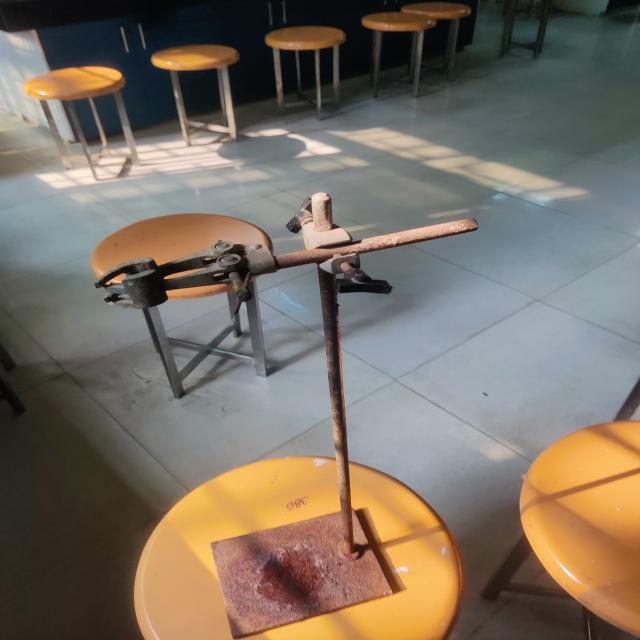Burette_Stands: (83, 178, 470, 630)
